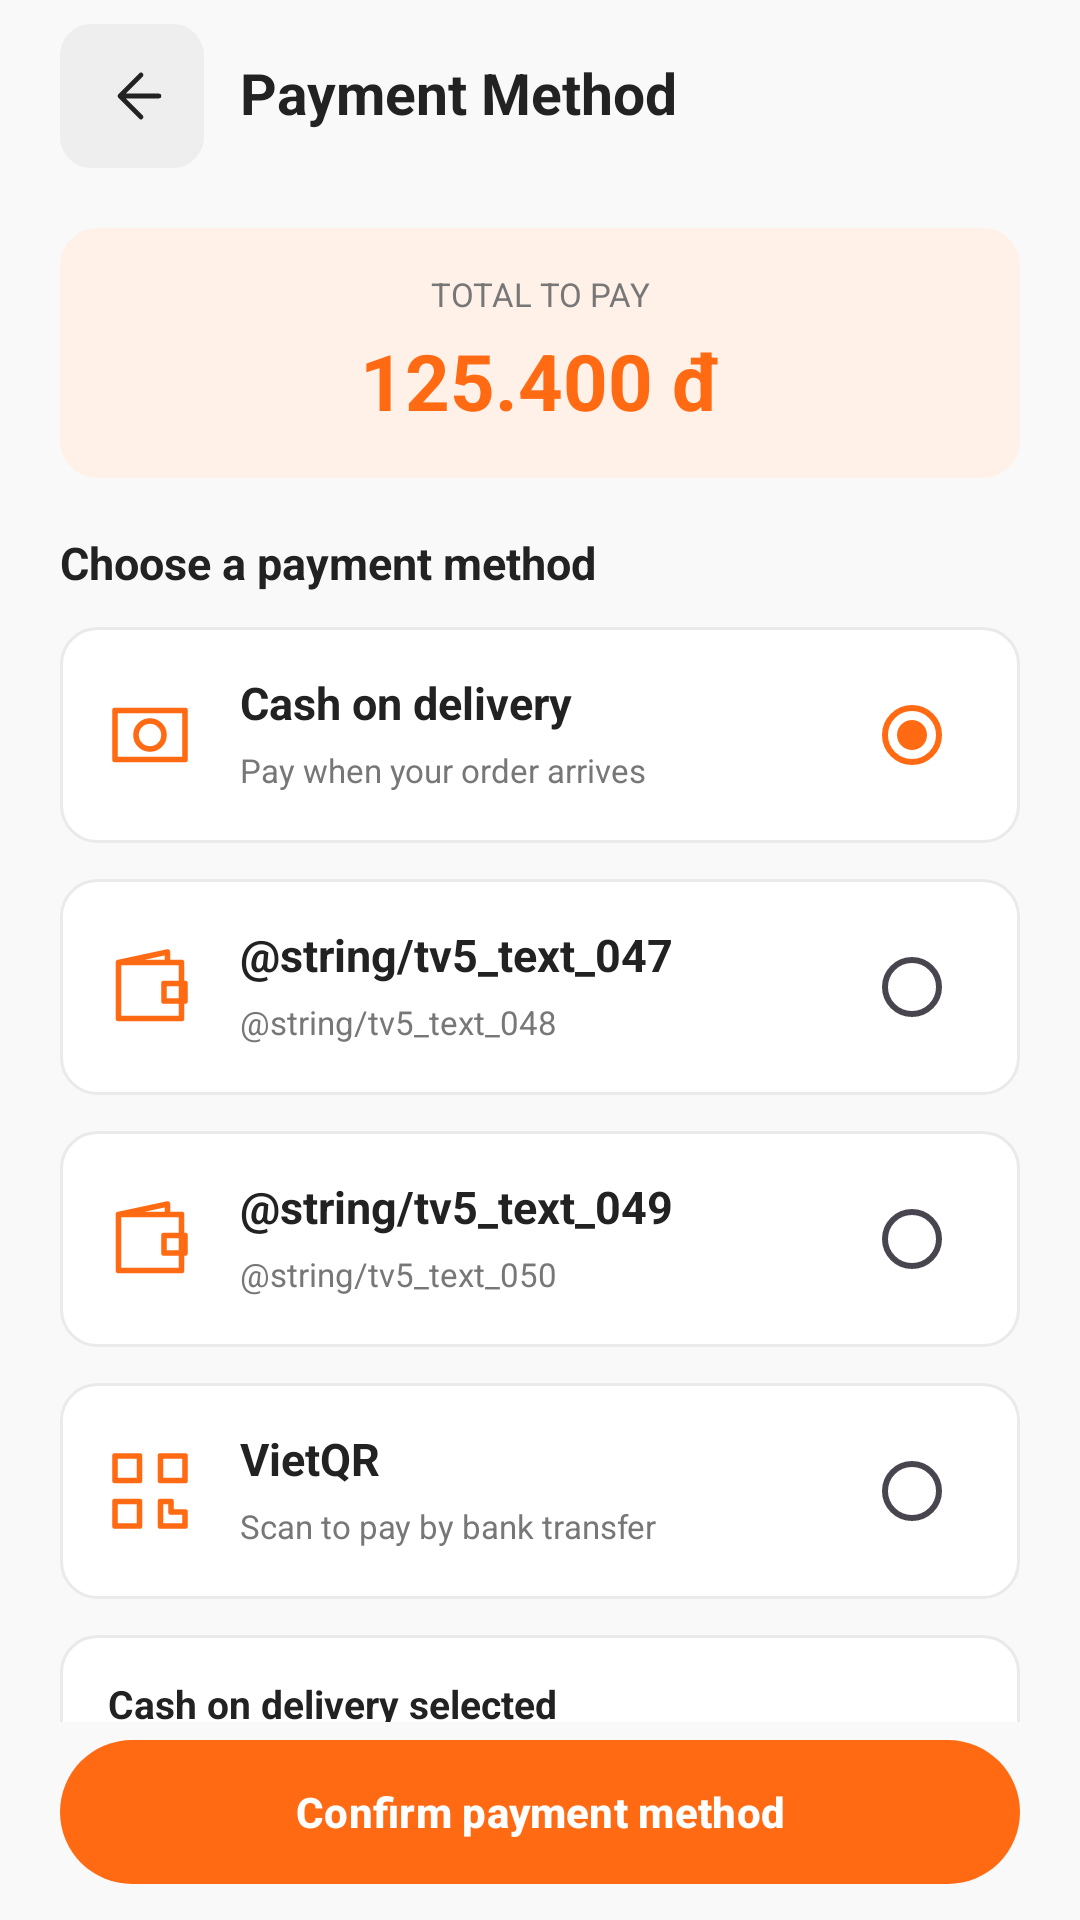

Icons on this 1080x1920 Android screen, each with the point to tap as (x=x, y=y):
Back: (x=132, y=96)
tv cash: (x=150, y=735)
tv wallet: (x=151, y=985), (x=151, y=1237)
